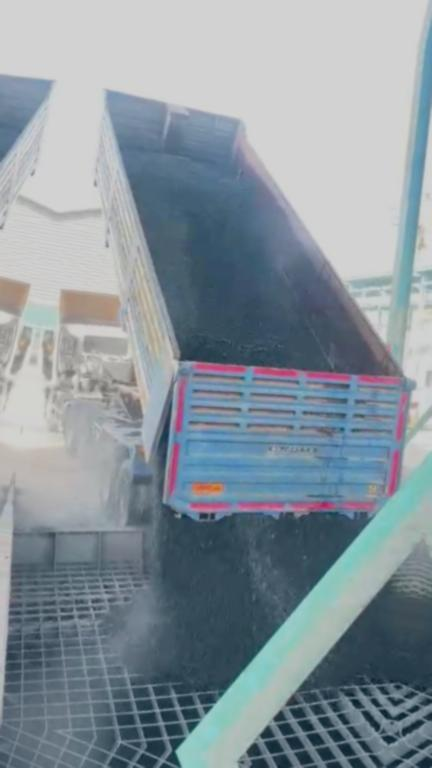gravel: (113, 506, 363, 688), (132, 156, 333, 370), (306, 587, 412, 686)
